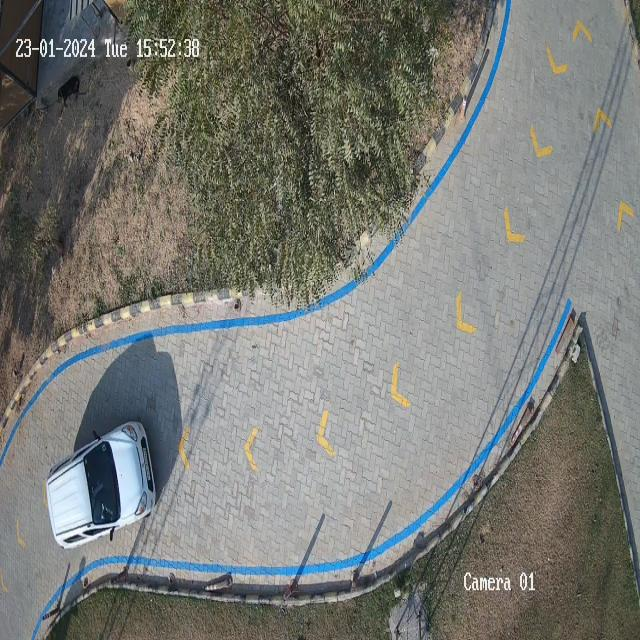car: (46, 422, 156, 549)
